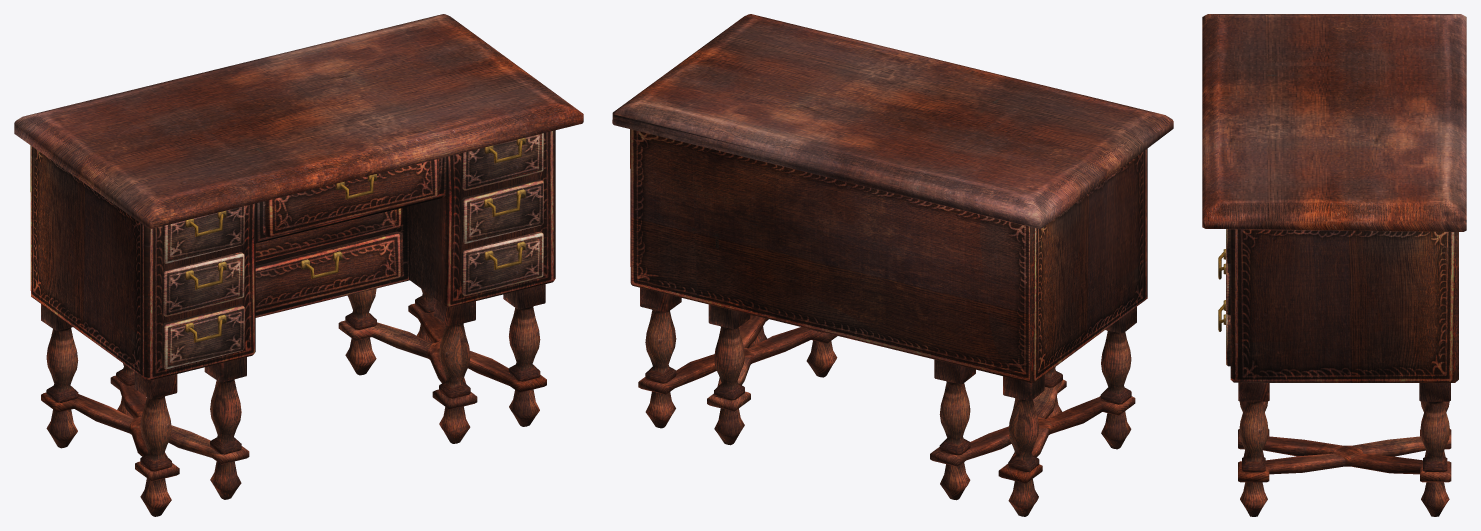
File: Table.obj
3 renders of one model, left to right at view 1: azimuth 30°, elevation 25°; view 2: azimuth 150°, elevation 25°; view 3: azimuth 270°, elevation 25°, orthographic. The views are drawn at different scales.
Visible parts, largest first — view 1: Table; view 2: Table; view 3: Table.
Boxes of the visible parts, x1,y1,x2,y2 form: Table: [14, 14, 583, 516]; Table: [612, 14, 1173, 516]; Table: [1202, 14, 1466, 516].
Bounding box in the file's own units: 147 × 107 × 79.78.
